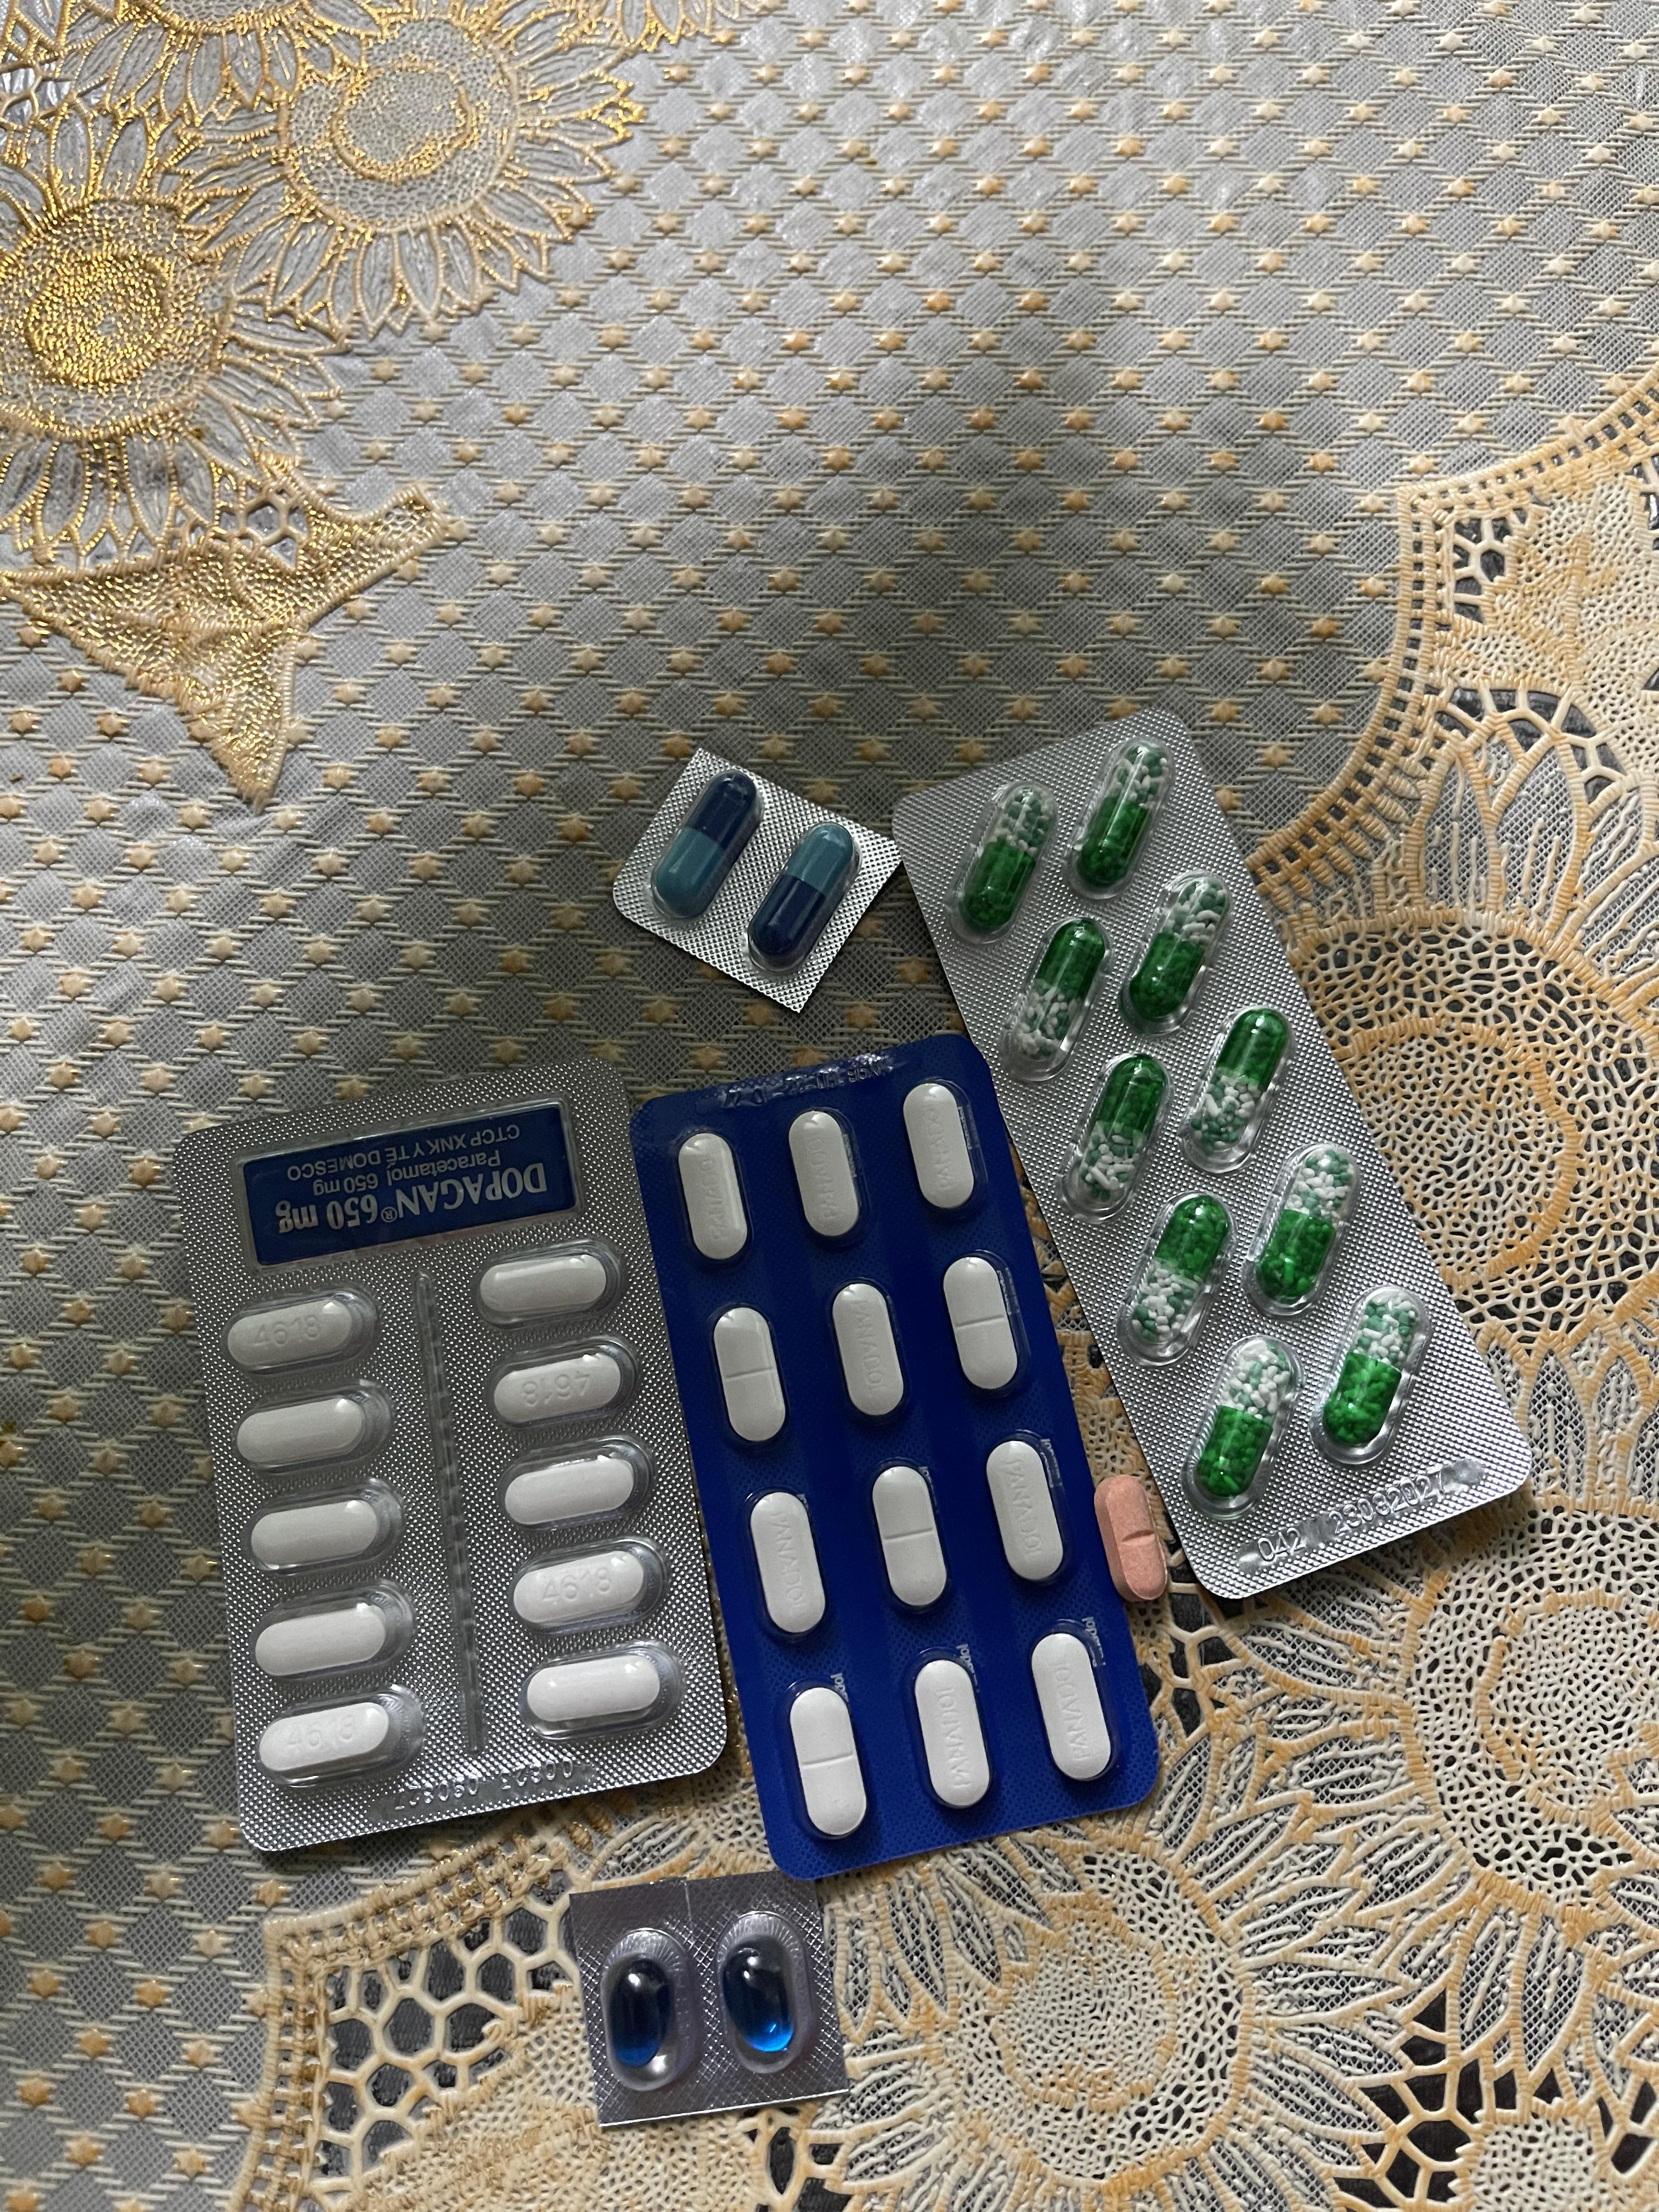Lincomyxin_500mg: (721, 1944, 793, 2057), (608, 1954, 676, 2071)
Loratadine_10mg: (1098, 1477, 1162, 1597)
Paracetamol_350mg: (1032, 1630, 1114, 1784), (986, 1437, 1068, 1585), (789, 1684, 866, 1841), (913, 1658, 992, 1811), (873, 1465, 948, 1611), (749, 1493, 824, 1637), (831, 1284, 908, 1420), (943, 1256, 1019, 1390), (713, 1308, 786, 1444), (904, 1083, 978, 1209), (676, 1134, 748, 1259), (789, 1109, 861, 1235)
Paracetamol_500mg: (251, 1590, 408, 1677), (232, 1388, 390, 1472), (247, 1491, 397, 1573), (511, 1545, 655, 1629), (502, 1447, 640, 1529), (261, 1698, 404, 1777), (477, 1247, 619, 1324), (525, 1651, 666, 1726), (491, 1348, 626, 1426), (230, 1294, 366, 1369)
Paracetamol_650mg: (1004, 911, 1112, 1062), (1131, 1195, 1232, 1350), (1323, 1287, 1422, 1444), (1256, 1146, 1358, 1299), (1121, 880, 1227, 1024), (1199, 1339, 1297, 1494), (1054, 1055, 1159, 1198), (1188, 1010, 1284, 1153), (962, 786, 1054, 927), (1082, 763, 1161, 883)
pill: (650, 766, 765, 921), (746, 815, 859, 968)
